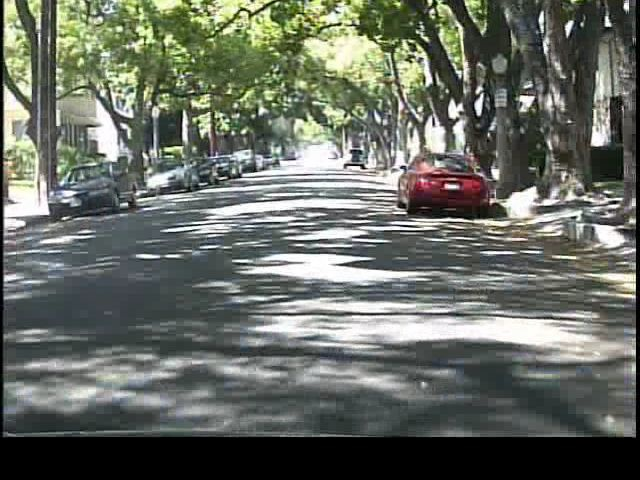person: (137, 145, 158, 187)
